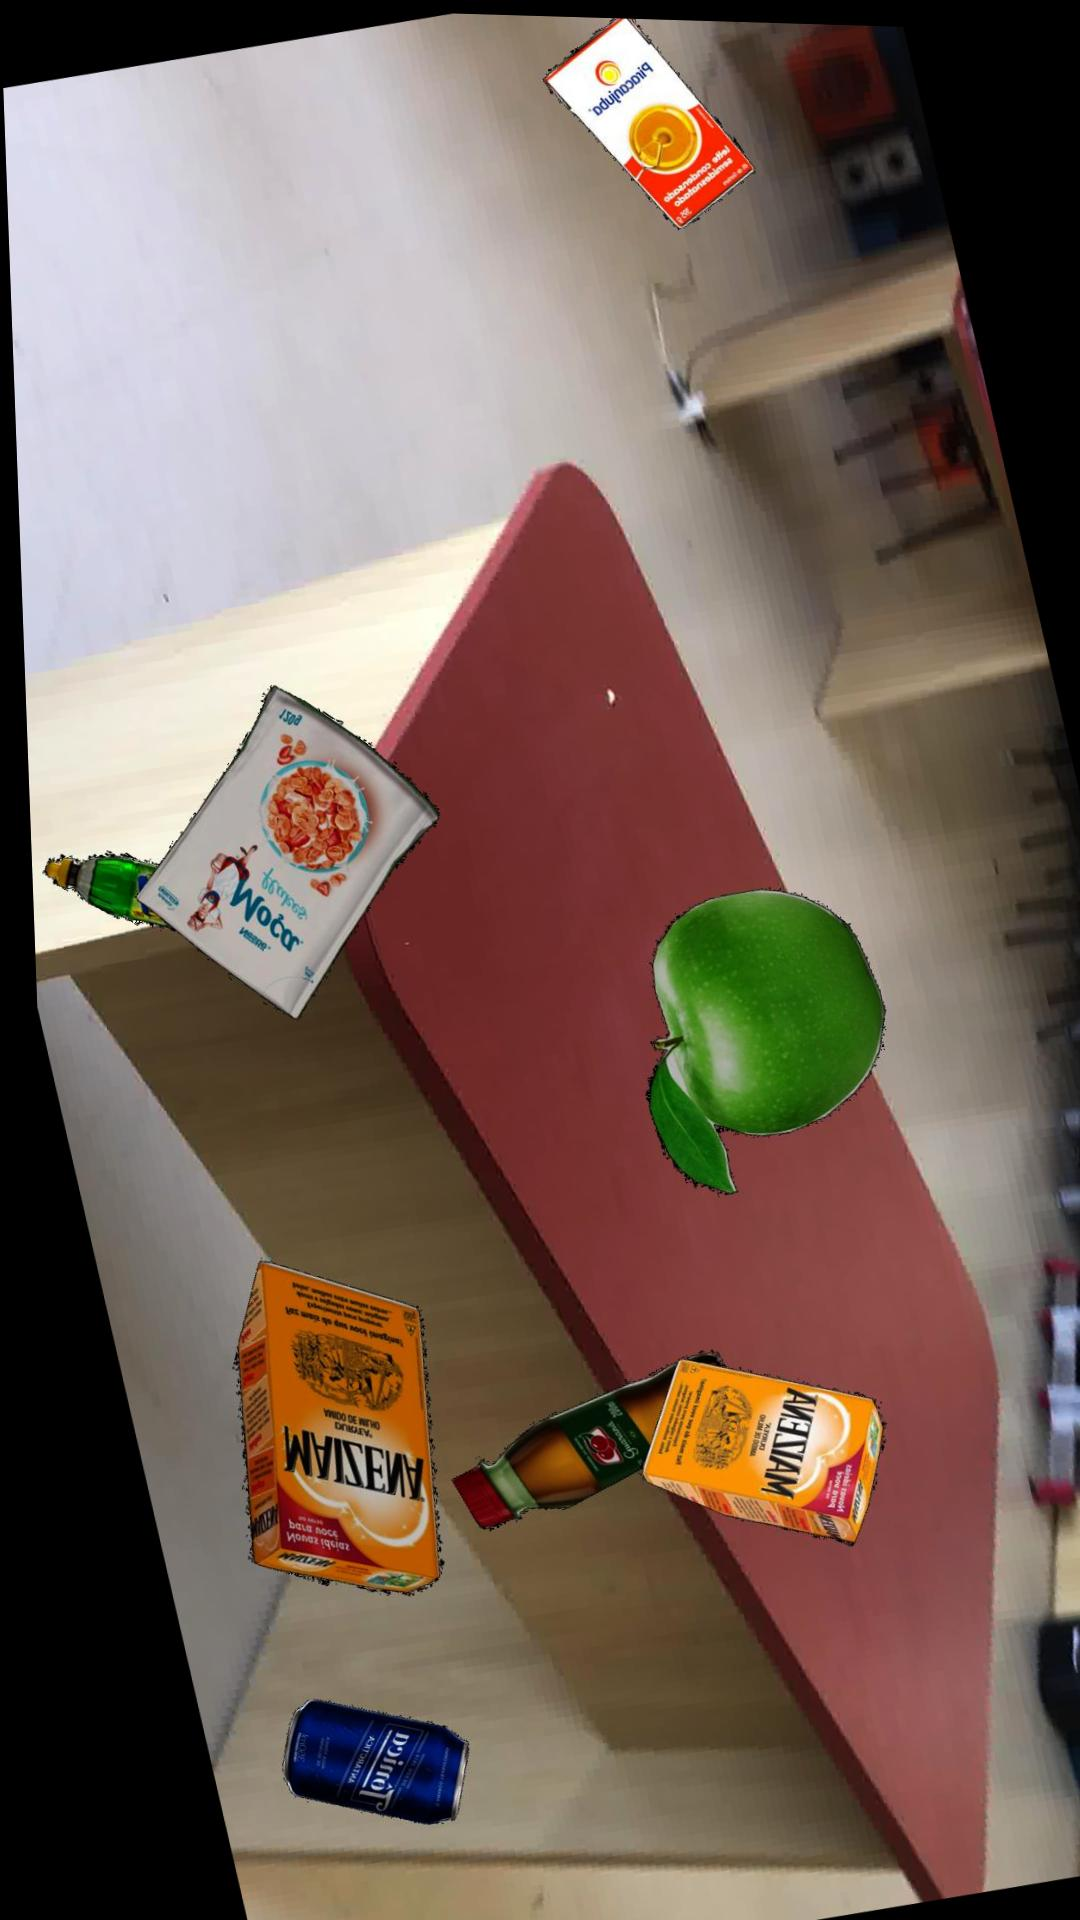cleaner: (33, 851, 162, 927)
corn flakes: (125, 682, 430, 1015)
green apple: (634, 882, 876, 1188)
guarana: (438, 1346, 711, 1527)
tonic: (265, 1696, 452, 1820)
